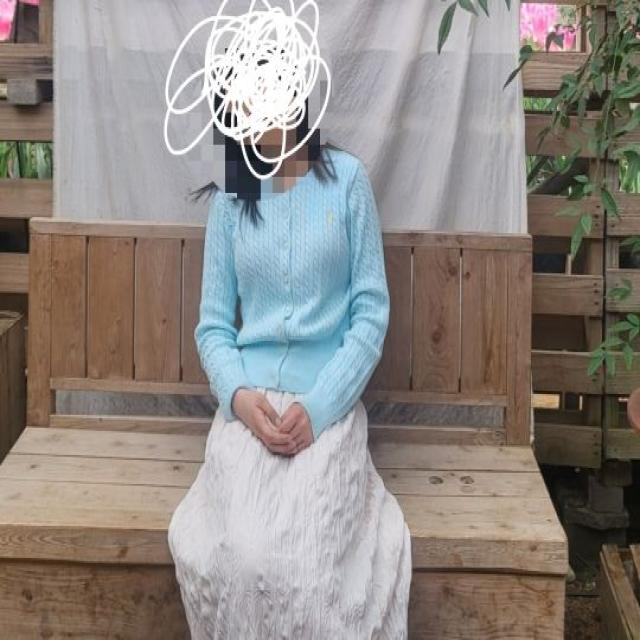cardigan: (195, 144, 391, 446)
skirt: (166, 382, 415, 640)
